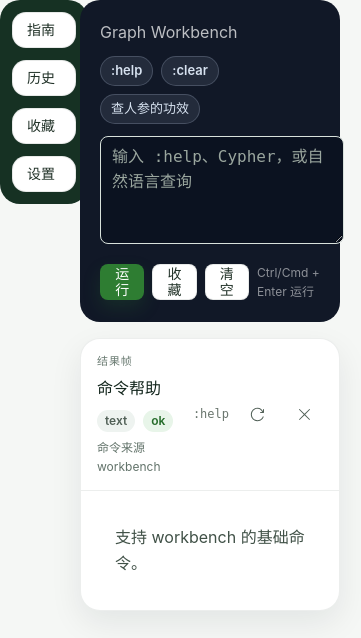
Test case: GraphWorkbenchPage › dismisses a single frame from the stream
This screenshot has width=361, height=638.
Click the button named "关闭结果 frame-help" at x=304, y=414, box 286,399 -> 323,429
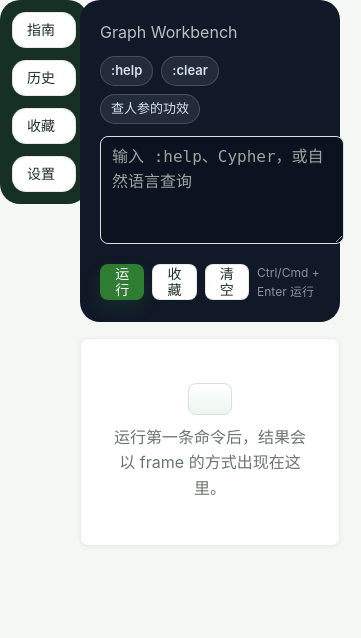
Now the text "命令帮助" is gone
